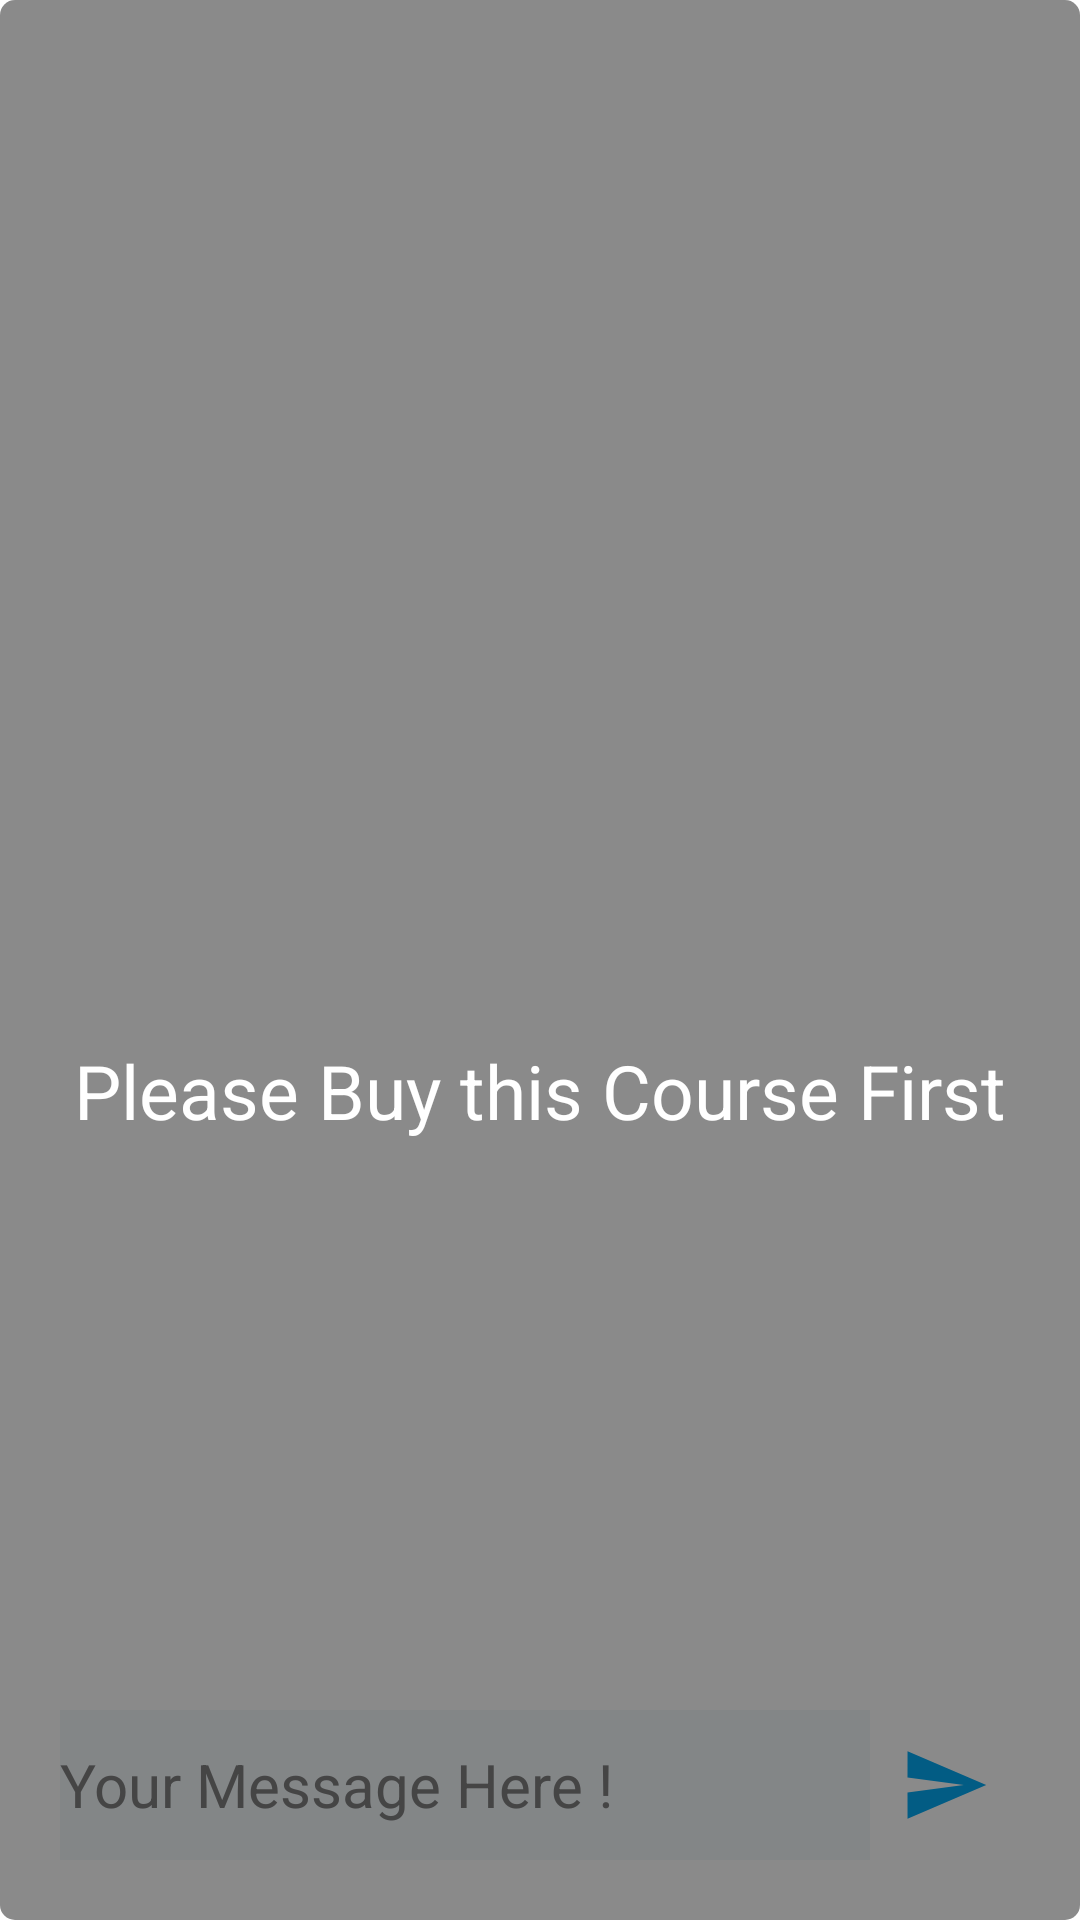

Icons on this 1080 x 1920 Android screen, each with its box as detection(x1, y1, x2, y2):
send: detection(907, 1751, 986, 1819)
